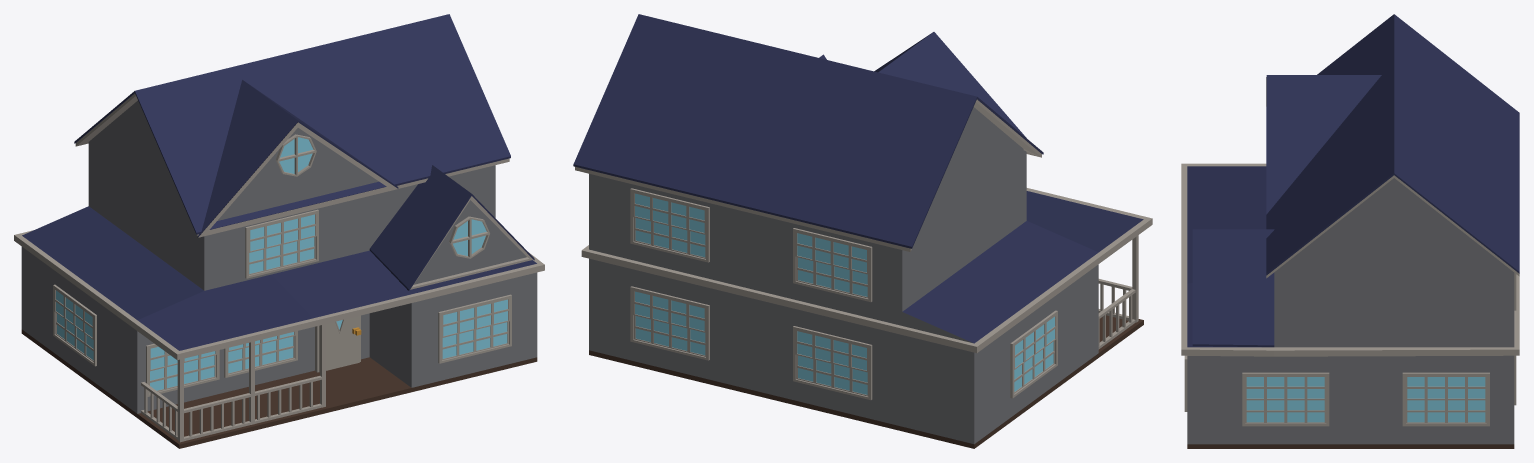
File: SM_house_03_A.gltf
3 views of the same model, side by side, from view 1: azimuth 30°, elevation 25°; view 2: azimuth 150°, elevation 25°; view 3: azimuth 270°, elevation 25° (orthographic). The views are drawn at different scales.
Visible parts, largest first — view 1: SM_house_03_A; view 2: SM_house_03_A; view 3: SM_house_03_A.
Boxes of the visible parts, left/top/right/bottom form: SM_house_03_A: left=14, top=14, right=544, bottom=448; SM_house_03_A: left=573, top=14, right=1152, bottom=448; SM_house_03_A: left=1181, top=14, right=1519, bottom=448.
Size of the model in its own units: 4.36 by 3.02 by 3.29.
